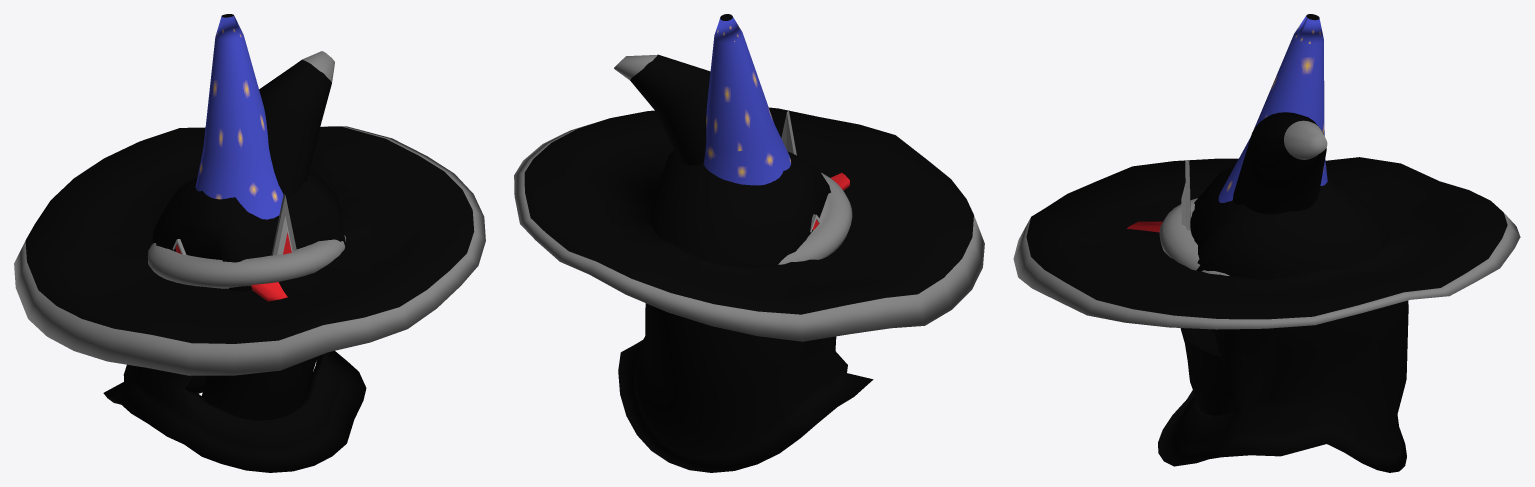
Rendered from hats.fbx.
3 renders of one model, left to right at view 1: azimuth 30°, elevation 25°; view 2: azimuth 150°, elevation 25°; view 3: azimuth 270°, elevation 25°, orthographic. The views are drawn at different scales.
Parts seen in each view (by area): view 1: Circle.001, Circle.003, Circle.002, Circle.004; view 2: Circle.001, Circle.003, Circle.002, Circle.004; view 3: Circle.001, Circle.003, Circle.002, Circle.004.
Boxes of the visible parts, x1,y1,x2,y2 form: Circle.001: (14, 51, 485, 375); Circle.003: (103, 170, 366, 472); Circle.002: (147, 14, 345, 288); Circle.004: (172, 194, 296, 255); Circle.001: (514, 54, 984, 341); Circle.003: (618, 150, 873, 472); Circle.002: (703, 14, 852, 264); Circle.004: (781, 110, 821, 232); Circle.001: (1013, 112, 1520, 329); Circle.003: (1158, 166, 1408, 472); Circle.002: (1159, 14, 1327, 275); Circle.004: (1181, 160, 1190, 230).
Bounding box in the file's own units: 76.96 × 75.12 × 77.65.
